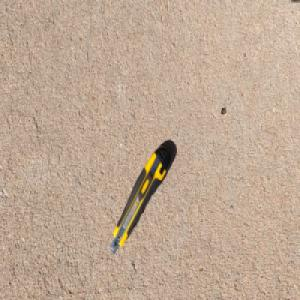Cutter: (110, 143, 174, 257)
